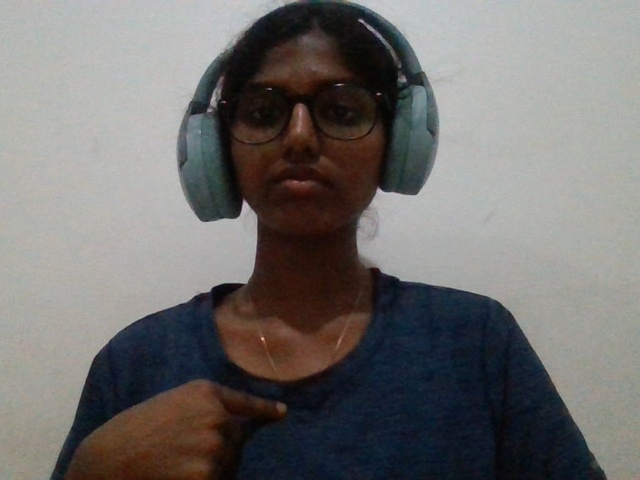Me: (48, 349, 318, 480)
